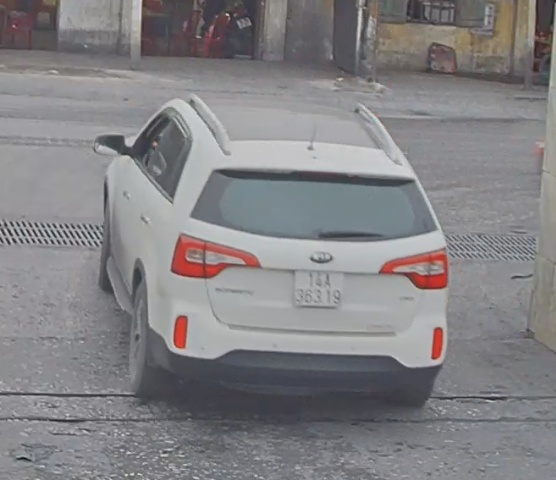vehicle plate: (291, 265, 346, 311)
